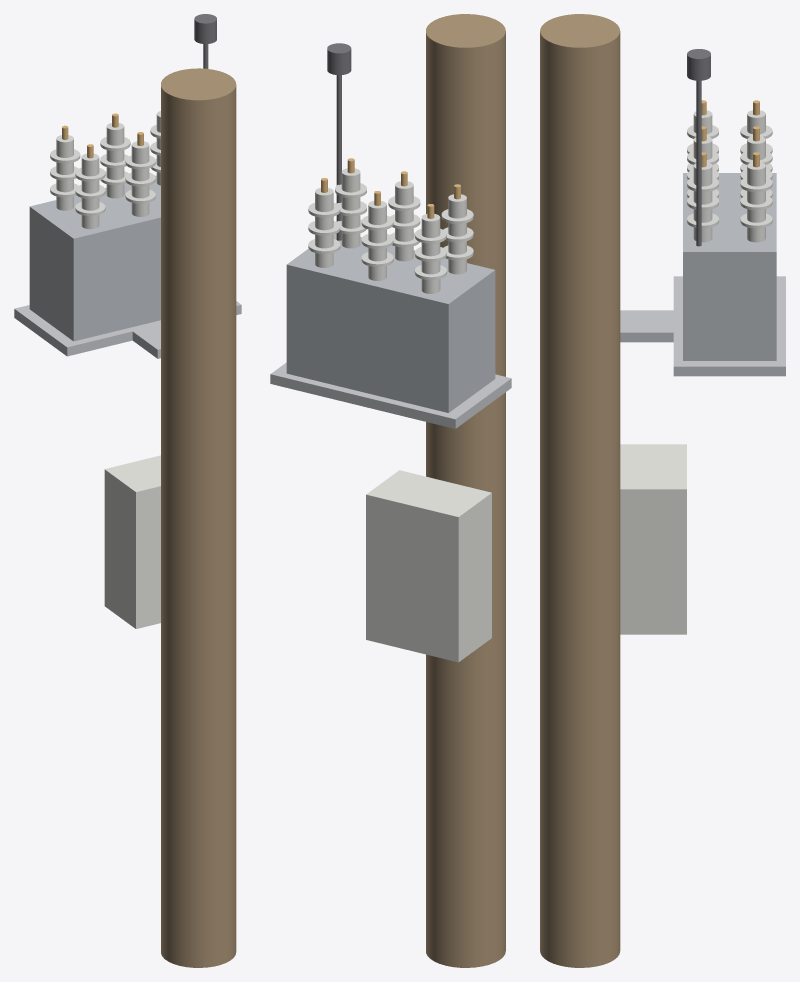
The model's file is auto_switch.glb.
3 renders of one model, left to right at view 1: azimuth 30°, elevation 25°; view 2: azimuth 150°, elevation 25°; view 3: azimuth 270°, elevation 25°, orthographic. The views are drawn at different scales.
Visible parts, largest first — view 1: auto_switch; view 2: auto_switch; view 3: auto_switch.
Part boxes in pixels (x1=…): auto_switch: x1=14, y1=14, x2=241, y2=967; auto_switch: x1=270, y1=14, x2=511, y2=967; auto_switch: x1=540, y1=14, x2=785, y2=967.
Bounding box in the file's own units: 0.8 × 3.84 × 0.92.
